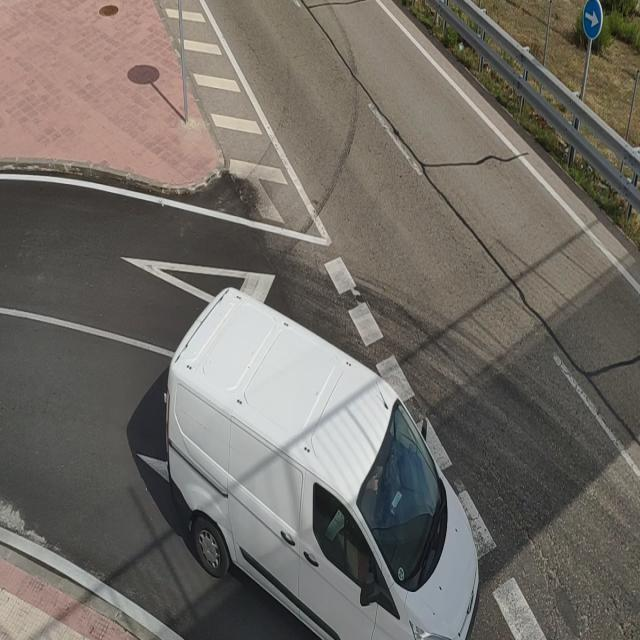Truck: (162, 282, 485, 640)
